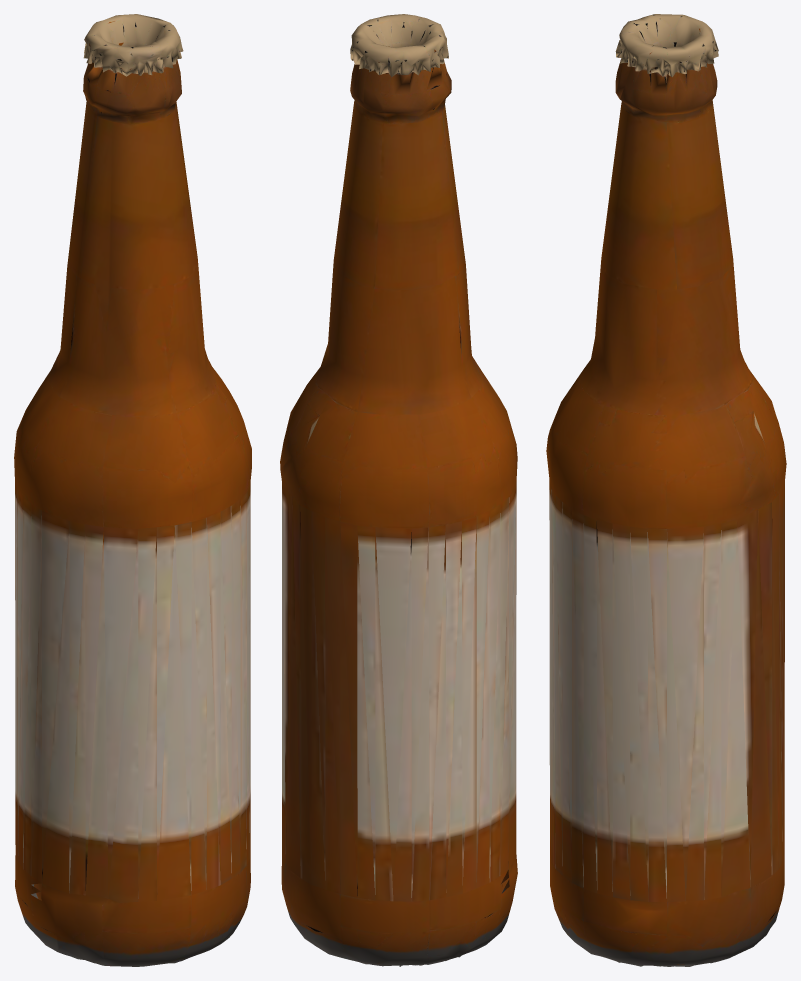
File: mobile.glb
The picture shows the model from 3 angles, left to right: view 1: azimuth 30°, elevation 25°; view 2: azimuth 150°, elevation 25°; view 3: azimuth 270°, elevation 25°; orthographic projection.
Parts seen in each view (by area): view 1: beerbottle; view 2: beerbottle; view 3: beerbottle.
Part boxes in pixels (<box>): beerbottle: <box>14,14,251,966</box>; beerbottle: <box>280,14,517,966</box>; beerbottle: <box>546,14,786,966</box>.
Size of the model in its own units: 0.0554 by 0.23 by 0.0558.
1 material, 1 textured.
